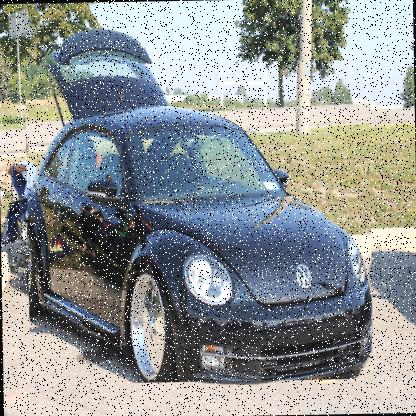Car: (25, 60, 374, 384)
